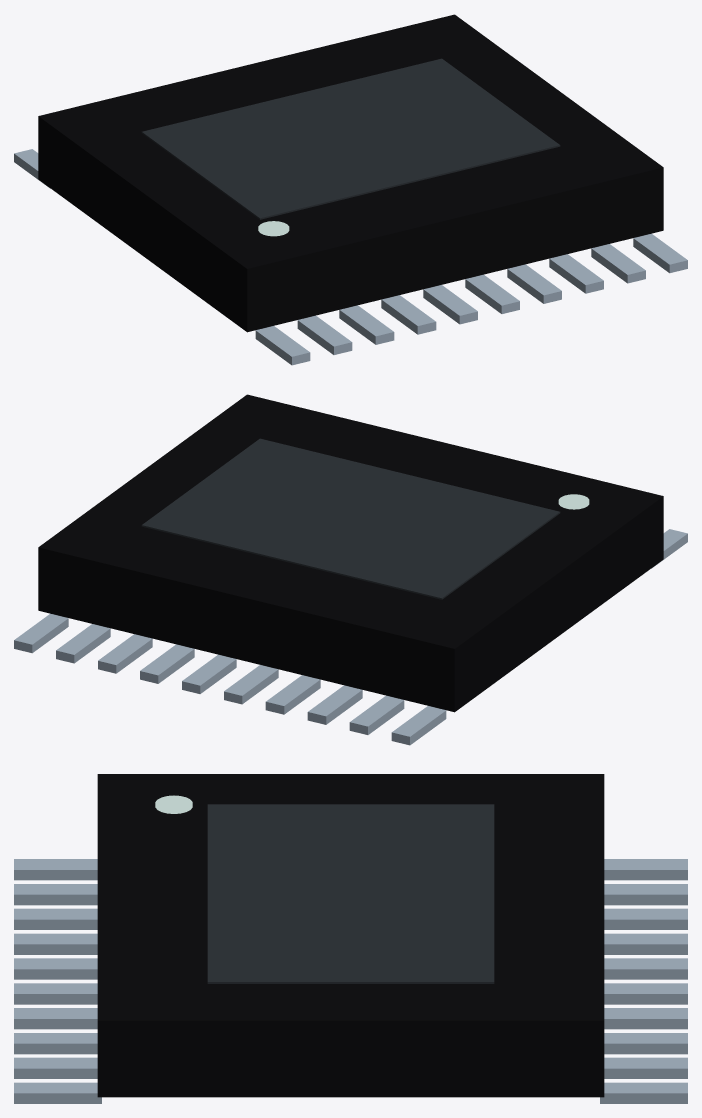
3 views of the same model, one above another, from view 1: azimuth 30°, elevation 25°; view 2: azimuth 150°, elevation 25°; view 3: azimuth 270°, elevation 25° (orthographic). The views are drawn at different scales.
Visible parts, largest first — view 1: U1_000_Molded_Encapsulation, U1_001_LaserMark_Panel, U1_014_Stamped_Gullwing_Lead, U1_015_Stamped_Gullwing_Lead, U1_012_Stamped_Gullwing_Lead, U1_013_Stamped_Gullwing_Lead, U1_016_Stamped_Gullwing_Lead, U1_018_Stamped_Gullwing_Lead, U1_019_Stamped_Gullwing_Lead, U1_017_Stamped_Gullwing_Lead, U1_020_Stamped_Gullwing_Lead, U1_021_Stamped_Gullwing_Lead; view 2: U1_000_Molded_Encapsulation, U1_001_LaserMark_Panel, U1_004_Stamped_Gullwing_Lead, U1_005_Stamped_Gullwing_Lead, U1_002_Stamped_Gullwing_Lead, U1_003_Stamped_Gullwing_Lead, U1_006_Stamped_Gullwing_Lead, U1_008_Stamped_Gullwing_Lead, U1_009_Stamped_Gullwing_Lead, U1_007_Stamped_Gullwing_Lead, U1_010_Stamped_Gullwing_Lead, U1_011_Stamped_Gullwing_Lead; view 3: U1_000_Molded_Encapsulation, U1_001_LaserMark_Panel, U1_011_Stamped_Gullwing_Lead, U1_021_Stamped_Gullwing_Lead, U1_002_Stamped_Gullwing_Lead, U1_003_Stamped_Gullwing_Lead, U1_004_Stamped_Gullwing_Lead, U1_005_Stamped_Gullwing_Lead, U1_006_Stamped_Gullwing_Lead, U1_007_Stamped_Gullwing_Lead, U1_008_Stamped_Gullwing_Lead, U1_009_Stamped_Gullwing_Lead (+11 smaller).
Part boxes in pixels (x1,y1,x2,y2): U1_000_Molded_Encapsulation: (38, 14, 663, 332); U1_001_LaserMark_Panel: (141, 58, 560, 219); U1_014_Stamped_Gullwing_Lead: (339, 305, 394, 344); U1_015_Stamped_Gullwing_Lead: (381, 295, 436, 334); U1_012_Stamped_Gullwing_Lead: (255, 326, 310, 365); U1_013_Stamped_Gullwing_Lead: (297, 315, 352, 354); U1_016_Stamped_Gullwing_Lead: (423, 285, 477, 324); U1_018_Stamped_Gullwing_Lead: (507, 264, 561, 303); U1_019_Stamped_Gullwing_Lead: (549, 254, 603, 293); U1_017_Stamped_Gullwing_Lead: (465, 274, 519, 313); U1_020_Stamped_Gullwing_Lead: (591, 244, 645, 283); U1_021_Stamped_Gullwing_Lead: (633, 233, 687, 273); U1_000_Molded_Encapsulation: (38, 394, 663, 712); U1_001_LaserMark_Panel: (141, 438, 560, 599); U1_004_Stamped_Gullwing_Lead: (307, 685, 362, 724); U1_005_Stamped_Gullwing_Lead: (265, 675, 320, 714); U1_002_Stamped_Gullwing_Lead: (391, 706, 446, 745); U1_003_Stamped_Gullwing_Lead: (349, 695, 404, 734); U1_006_Stamped_Gullwing_Lead: (224, 665, 278, 704); U1_008_Stamped_Gullwing_Lead: (140, 644, 194, 683); U1_009_Stamped_Gullwing_Lead: (98, 634, 152, 673); U1_007_Stamped_Gullwing_Lead: (182, 654, 236, 693); U1_010_Stamped_Gullwing_Lead: (56, 624, 110, 663); U1_011_Stamped_Gullwing_Lead: (14, 613, 68, 653); U1_000_Molded_Encapsulation: (97, 774, 604, 1097); U1_001_LaserMark_Panel: (207, 804, 494, 983); U1_011_Stamped_Gullwing_Lead: (600, 1082, 687, 1103); U1_021_Stamped_Gullwing_Lead: (14, 1082, 101, 1103); U1_002_Stamped_Gullwing_Lead: (604, 859, 687, 880); U1_003_Stamped_Gullwing_Lead: (604, 884, 687, 905); U1_004_Stamped_Gullwing_Lead: (604, 908, 687, 929); U1_005_Stamped_Gullwing_Lead: (604, 933, 687, 954); U1_006_Stamped_Gullwing_Lead: (604, 958, 687, 979); U1_007_Stamped_Gullwing_Lead: (604, 983, 687, 1004); U1_008_Stamped_Gullwing_Lead: (604, 1008, 687, 1029); U1_009_Stamped_Gullwing_Lead: (604, 1033, 687, 1054).
Size of the model in its own units: 0.0086 by 0.00154 by 0.00994.
